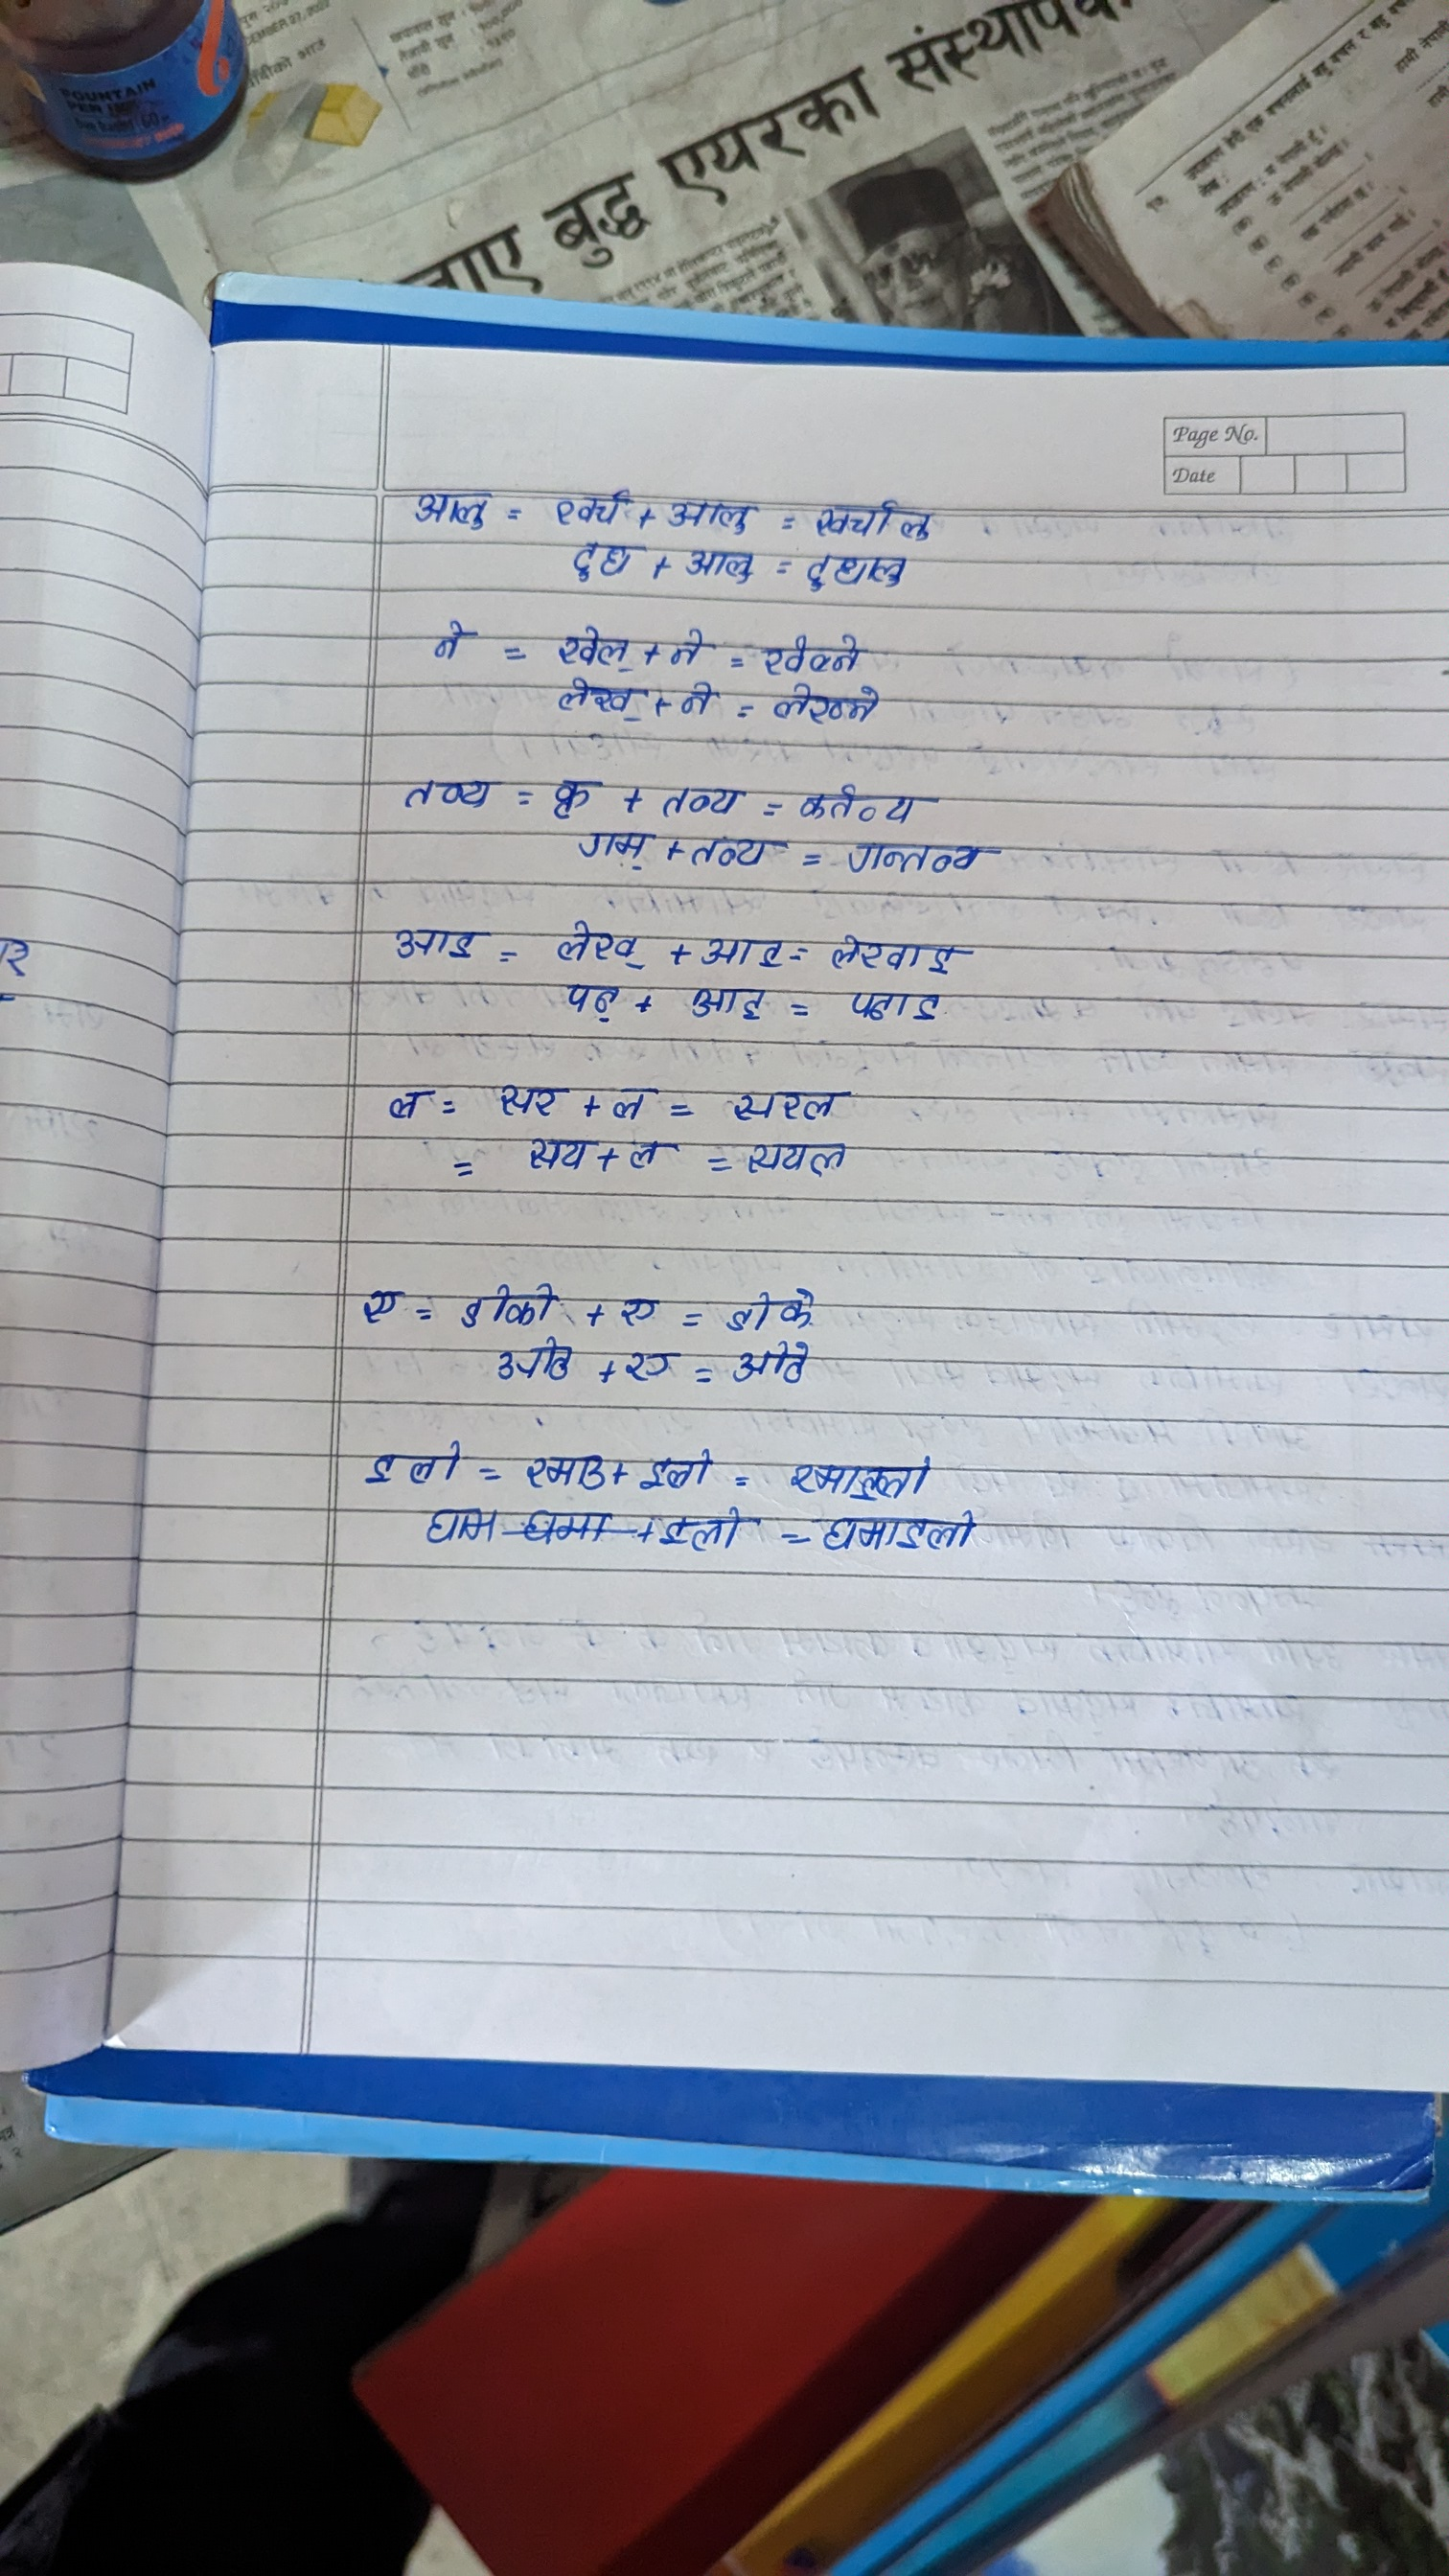text: (786, 1445, 947, 1506), (812, 1507, 973, 1568), (803, 487, 939, 547), (754, 619, 869, 679), (846, 832, 980, 881), (826, 927, 961, 977), (727, 1129, 862, 1178), (801, 548, 920, 603), (800, 775, 934, 823), (725, 1077, 860, 1125), (764, 681, 888, 729), (398, 478, 492, 536), (648, 770, 754, 817), (688, 929, 794, 977), (676, 977, 782, 1024), (718, 1286, 824, 1334), (363, 1442, 469, 1490), (556, 823, 660, 870), (387, 924, 492, 971), (547, 916, 651, 964), (844, 984, 948, 1031), (456, 1283, 561, 1330), (395, 770, 501, 816), (495, 1136, 602, 1182), (715, 1339, 821, 1385), (511, 1447, 617, 1493), (409, 1500, 515, 1546), (559, 614, 642, 672), (681, 830, 786, 876), (538, 980, 642, 1026), (478, 1079, 582, 1125), (485, 1338, 589, 1384), (637, 1445, 741, 1491), (648, 1509, 752, 1555), (543, 472, 623, 531), (660, 487, 761, 533), (557, 672, 640, 725), (566, 534, 637, 589), (685, 541, 763, 586), (423, 616, 472, 672), (676, 672, 722, 729), (617, 1283, 662, 1339), (625, 1341, 669, 1398), (552, 768, 596, 823), (603, 1074, 648, 1129), (625, 1136, 669, 1191), (382, 1076, 425, 1132), (665, 617, 709, 671), (357, 1272, 400, 1327)
